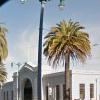Palm tree: (50, 15, 90, 95)
